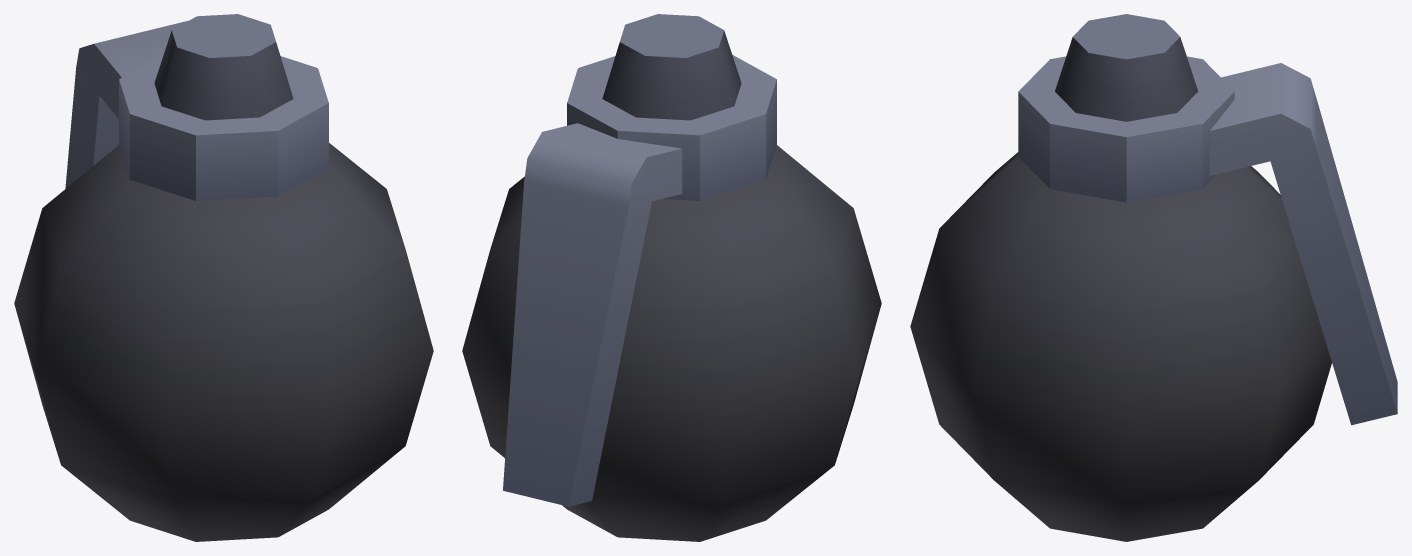
The model's file is kenney-blaster-grenade-b.glb.
3 renders of one model, left to right at view 1: azimuth 30°, elevation 25°; view 2: azimuth 150°, elevation 25°; view 3: azimuth 270°, elevation 25°, orthographic.
Visible parts, largest first — view 1: grenade-b; view 2: grenade-b; view 3: grenade-b.
Part boxes in pixels (<box>): grenade-b: <box>14,14,433,541</box>; grenade-b: <box>462,14,881,541</box>; grenade-b: <box>910,14,1397,541</box>.
Bounding box in the file's own units: 0.18 × 0.2111 × 0.2029.
Materials: 1 (1 with a texture image).
